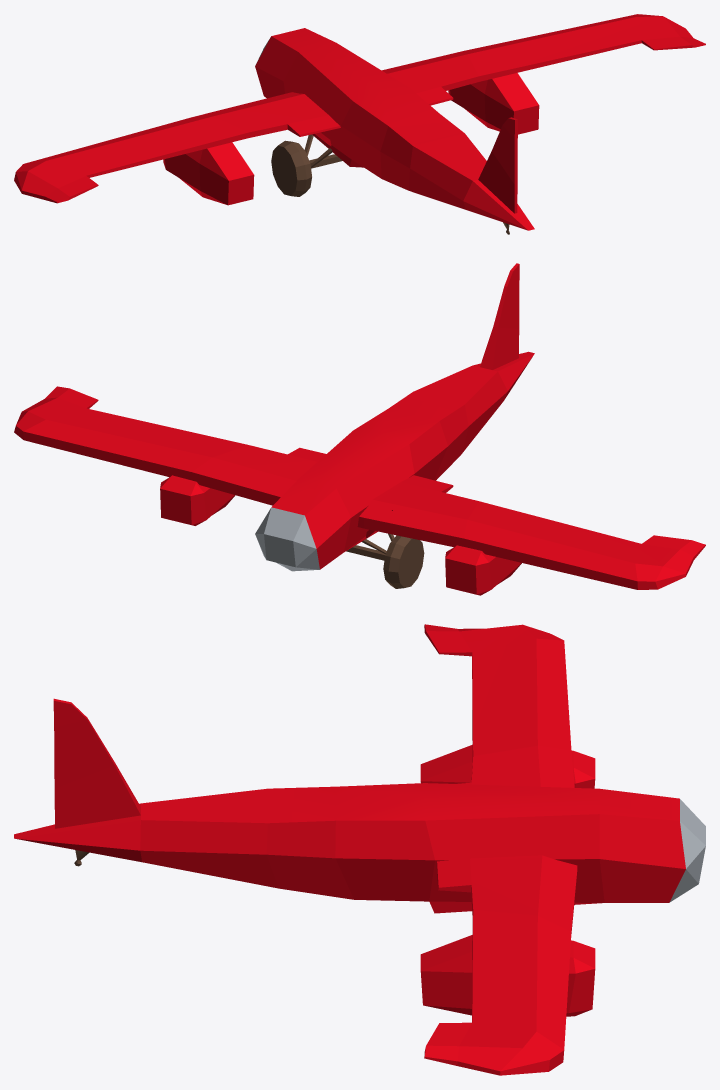
The model's file is Mesh_AirplaneControls_plane2.fbx.
The picture shows the model from 3 angles, top to bottom: view 1: azimuth 30°, elevation 25°; view 2: azimuth 150°, elevation 25°; view 3: azimuth 270°, elevation 25°; orthographic projection. The views are drawn at different scales.
Visible parts, largest first — view 1: Cube.001; view 2: Cube.001; view 3: Cube.001.
Boxes of the visible parts, x1,y1,x2,y2 form: Cube.001: (14, 14, 705, 234); Cube.001: (14, 263, 705, 595); Cube.001: (14, 624, 705, 1075).
Bounding box in the file's own units: 1164 × 312 × 769.
